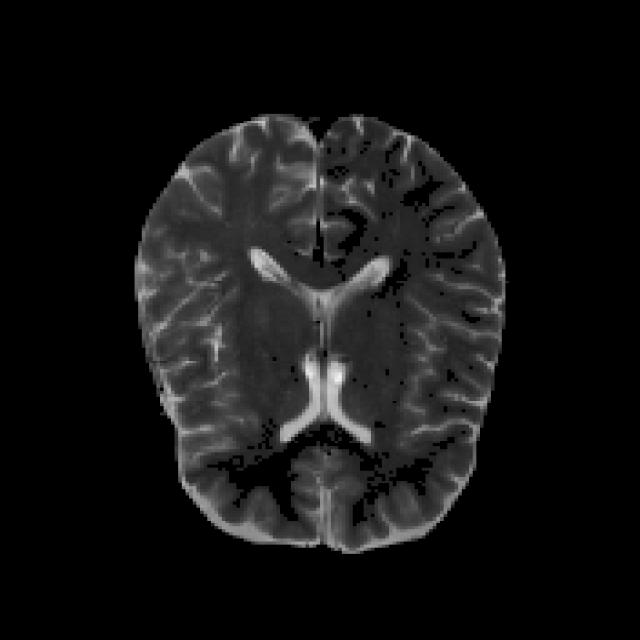parkinson: (131, 108, 505, 554)
